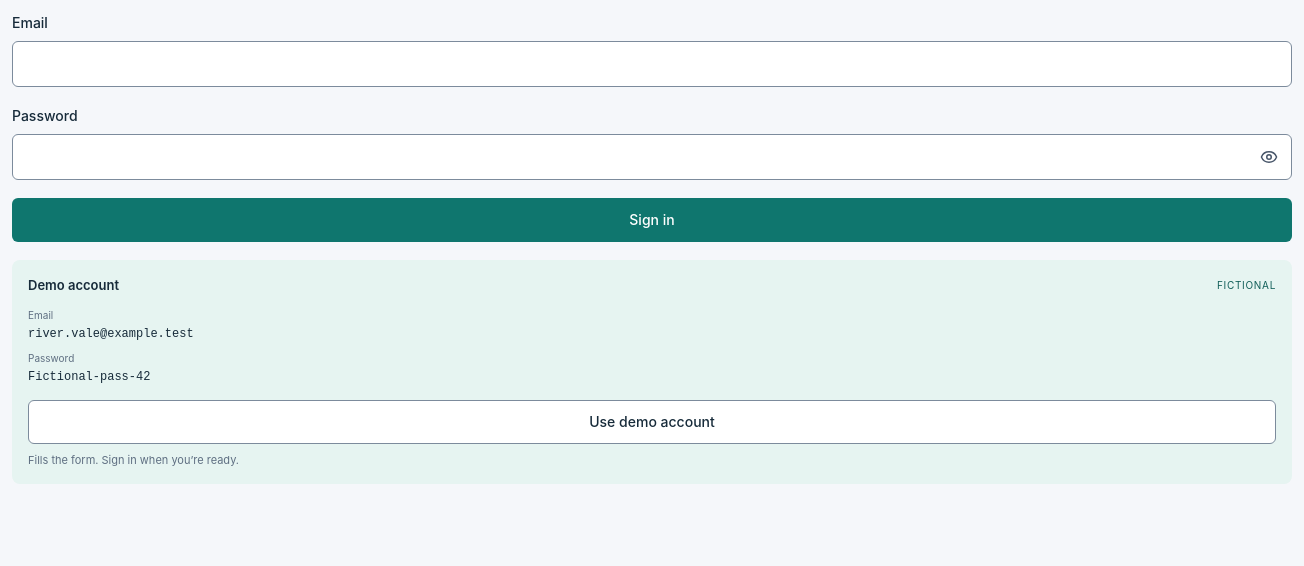
announces failed login with focus, preserves email and clears submitted password
In the field labelled "Email": (652, 64) [12,41,1292,87], type "river.vale@example.test"
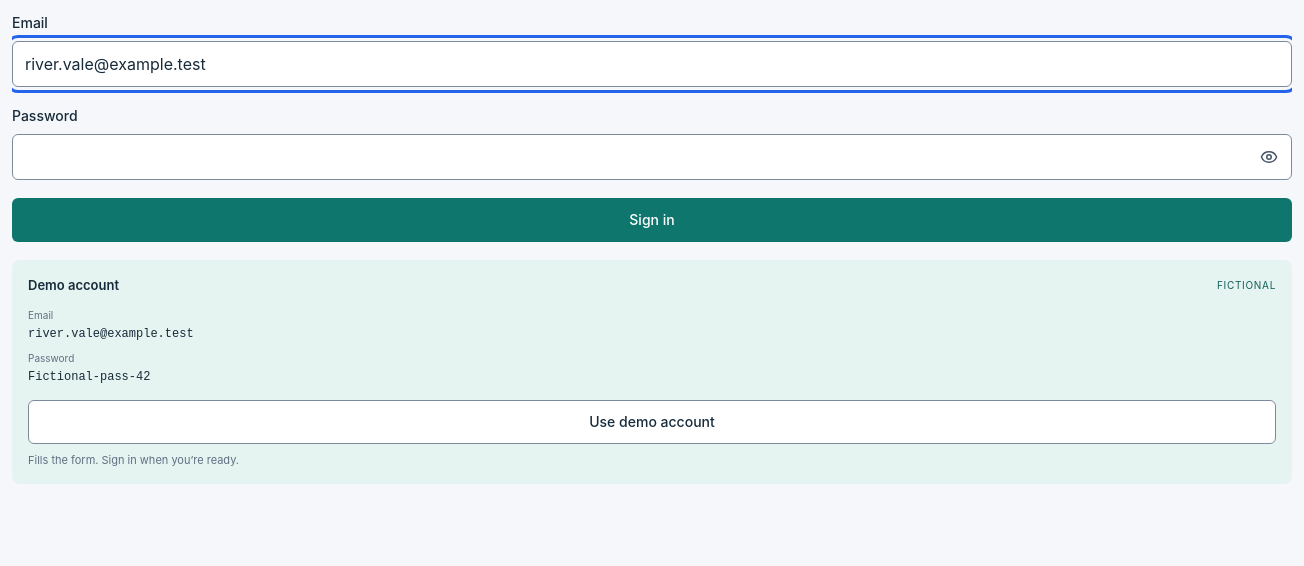
In the password field labelled "Password": (652, 157) [12,134,1292,180], type "Wrong-fictional"
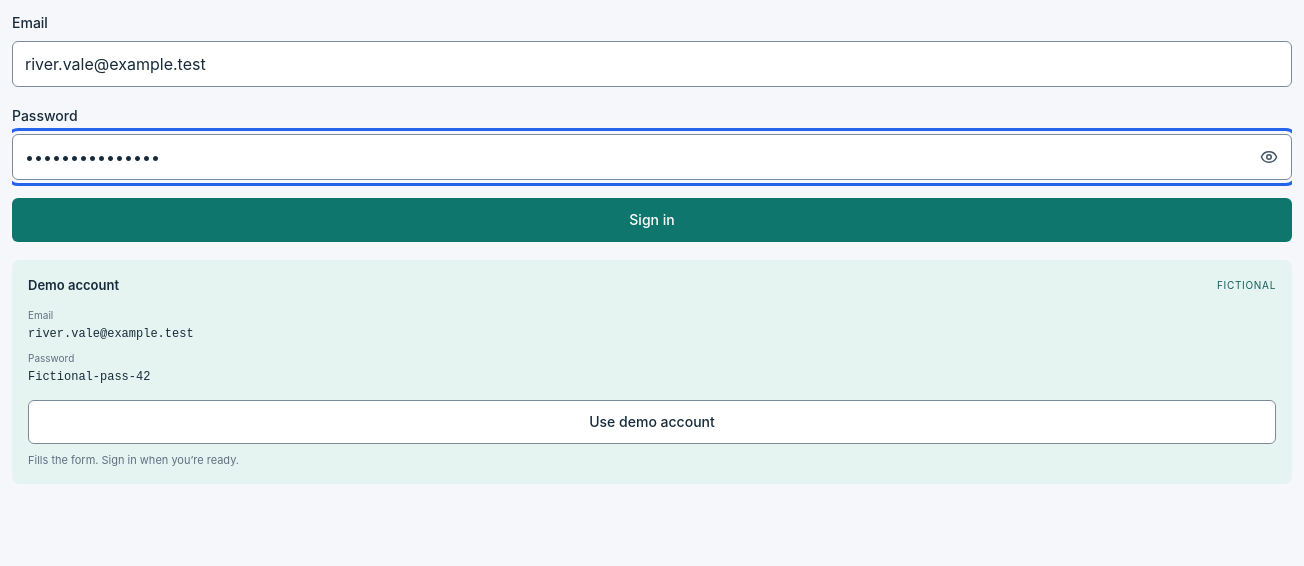
Press Enter
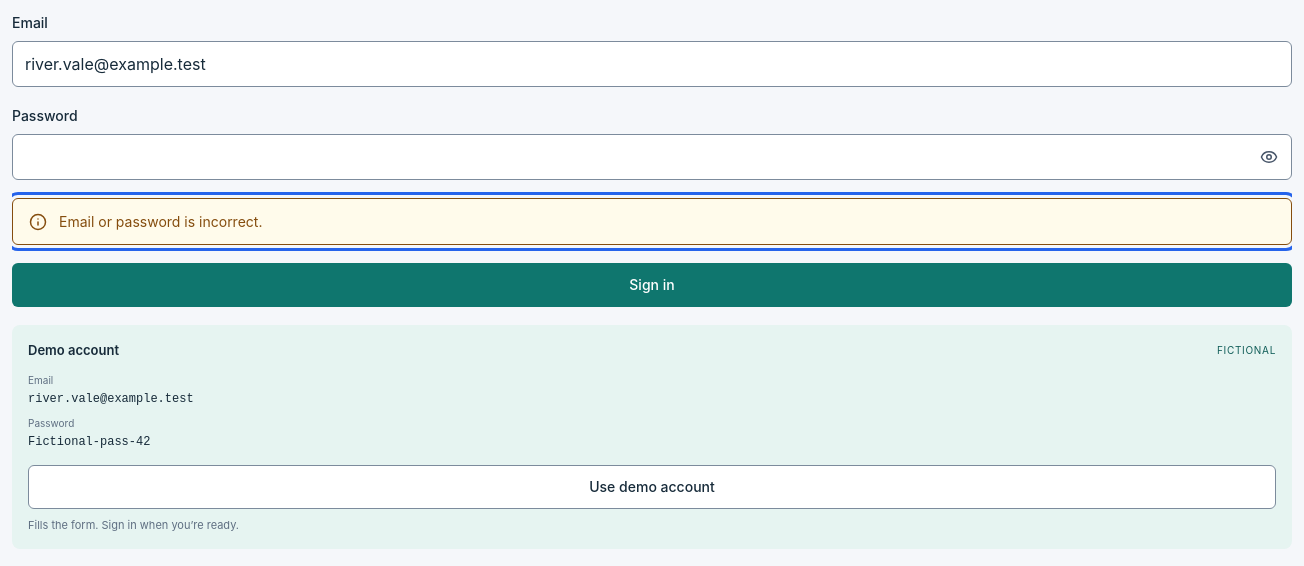
expect the message reads "Email or password is incorrect.": met, box [59,213,262,230]
expect the password field labelled "Password" is empty: met, box [12,134,1292,180]
